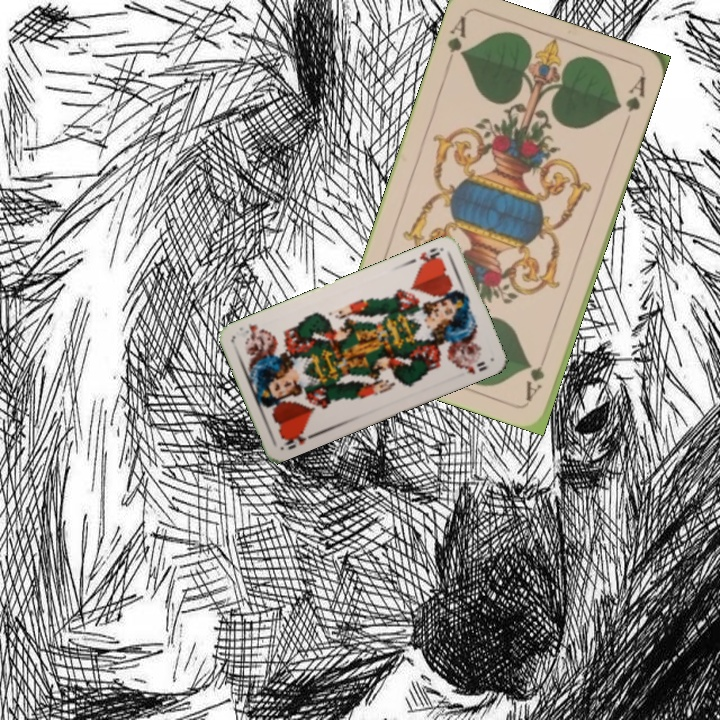GA: (521, 347, 551, 404), (443, 12, 469, 60)
HO: (277, 426, 318, 452), (414, 243, 445, 270)
